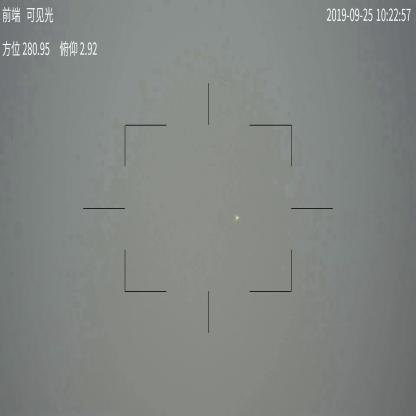uav: (234, 212, 240, 222)
